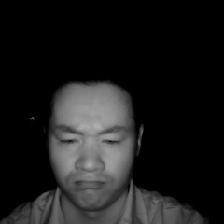sad: (37, 65, 143, 212)
